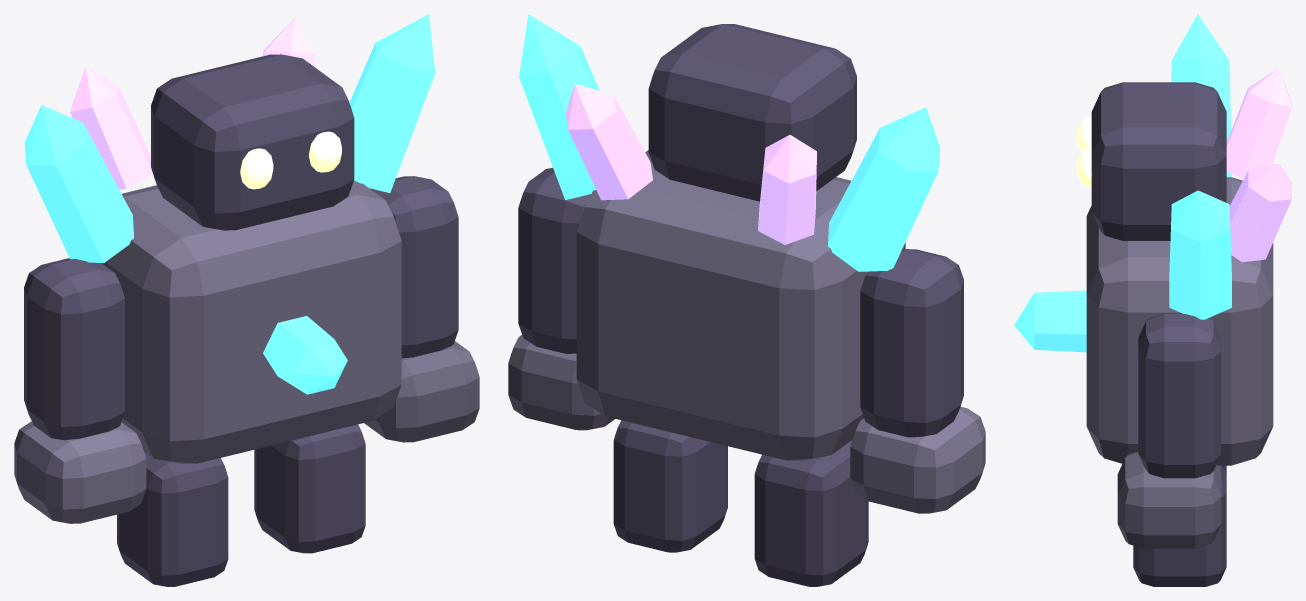
The model's file is monster_crystal_golem.glb.
The picture shows the model from 3 angles, left to right: view 1: azimuth 30°, elevation 25°; view 2: azimuth 150°, elevation 25°; view 3: azimuth 270°, elevation 25°; orthographic projection. The views are drawn at different scales.
Parts seen in each view (by area): view 1: body_t0_palette, arml_t0_palette, body_t0_crystal, armr_t0_palette, legr_t0_palette, legl_t0_palette, body_t0_crystal_violet, body_t0_eye_glow; view 2: body_t0_palette, arml_t0_palette, body_t0_crystal, armr_t0_palette, legl_t0_palette, legr_t0_palette, body_t0_crystal_violet; view 3: body_t0_palette, armr_t0_palette, body_t0_crystal, body_t0_crystal_violet, legr_t0_palette, body_t0_eye_glow.
Part boxes in pixels (x1,y1,x2,y2): body_t0_palette: (101,54,401,463); arml_t0_palette: (14,258,146,523); body_t0_crystal: (24,14,435,394); armr_t0_palette: (364,176,479,442); legr_t0_palette: (254,424,365,553); legl_t0_palette: (117,452,228,586); body_t0_crystal_violet: (70,17,315,189); body_t0_eye_glow: (240,131,341,189); body_t0_palette: (576,24,905,460); arml_t0_palette: (850,249,985,513); body_t0_crystal: (519,14,939,271); armr_t0_palette: (508,167,615,430); legl_t0_palette: (754,440,868,586); legr_t0_palette: (613,420,727,552); body_t0_crystal_violet: (565,84,816,244); body_t0_palette: (1086,82,1273,465); armr_t0_palette: (1117,313,1221,548); body_t0_crystal: (1014,14,1231,352); body_t0_crystal_violet: (1226,68,1291,262); legr_t0_palette: (1133,465,1226,586); body_t0_eye_glow: (1076,117,1091,187).
Bounding box in the file's own units: 0.44 × 0.4768 × 0.2681.
